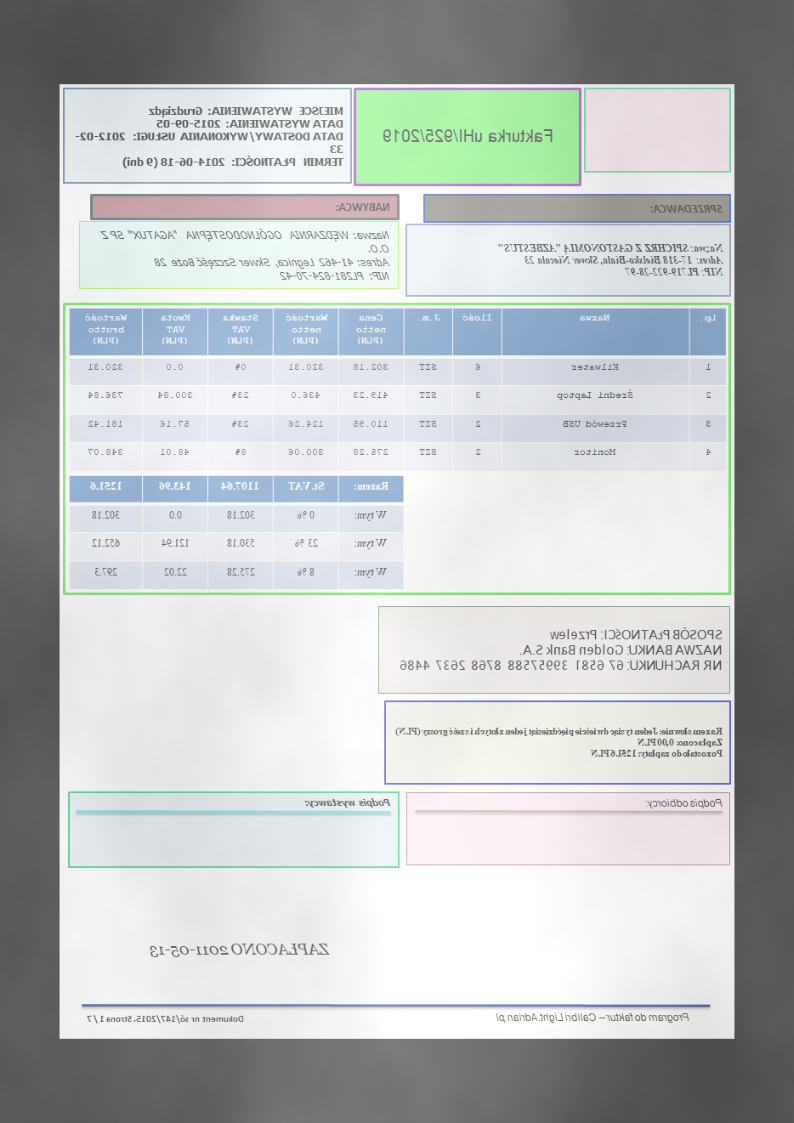Table: (69, 306, 728, 473), (68, 474, 405, 592)
TextBox: (72, 103, 346, 170), (98, 227, 393, 284), (398, 626, 725, 675), (394, 723, 725, 759), (496, 240, 725, 279), (149, 938, 332, 961), (494, 1008, 691, 1026), (380, 126, 556, 146), (86, 1012, 246, 1026), (304, 794, 393, 812), (644, 795, 725, 811), (648, 200, 726, 216), (335, 199, 393, 215)
